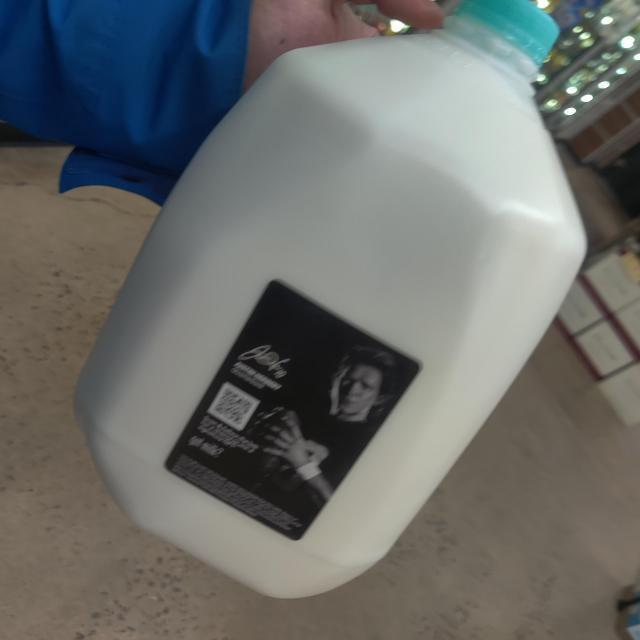Milk: (67, 0, 622, 596)
